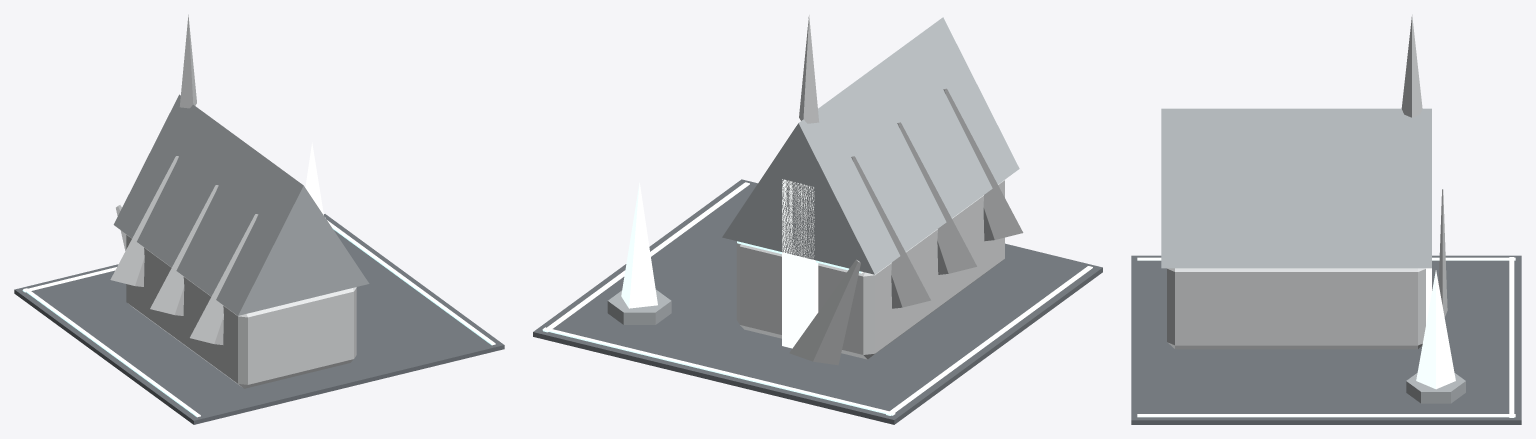
Rendered from zone_low_2.glb.
The picture shows the model from 3 angles, left to right: view 1: azimuth 30°, elevation 25°; view 2: azimuth 150°, elevation 25°; view 3: azimuth 270°, elevation 25°; orthographic projection. The views are drawn at different scales.
Parts seen in each view (by area): view 1: zone_low_2, detail; view 2: zone_low_2, detail; view 3: zone_low_2, detail.
Part boxes in pixels (x1,y1,x2,y2): zone_low_2: [14, 14, 504, 424]; detail: [22, 217, 495, 417]; zone_low_2: [533, 15, 1102, 424]; detail: [542, 182, 1092, 415]; zone_low_2: [1131, 14, 1521, 424]; detail: [1137, 257, 1515, 417].
Size of the model in its own units: 19.6 by 18.98 by 19.6.
